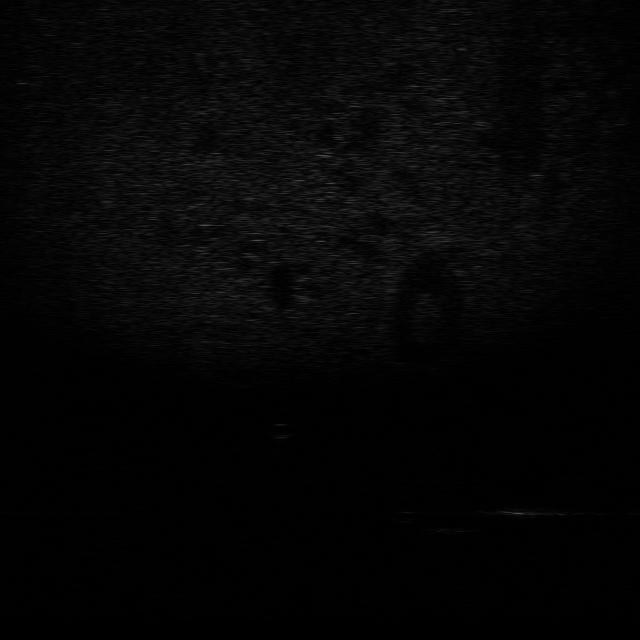ball: (265, 419, 299, 440)
metal bucket: (492, 500, 562, 521)
tyre: (391, 506, 481, 537)
